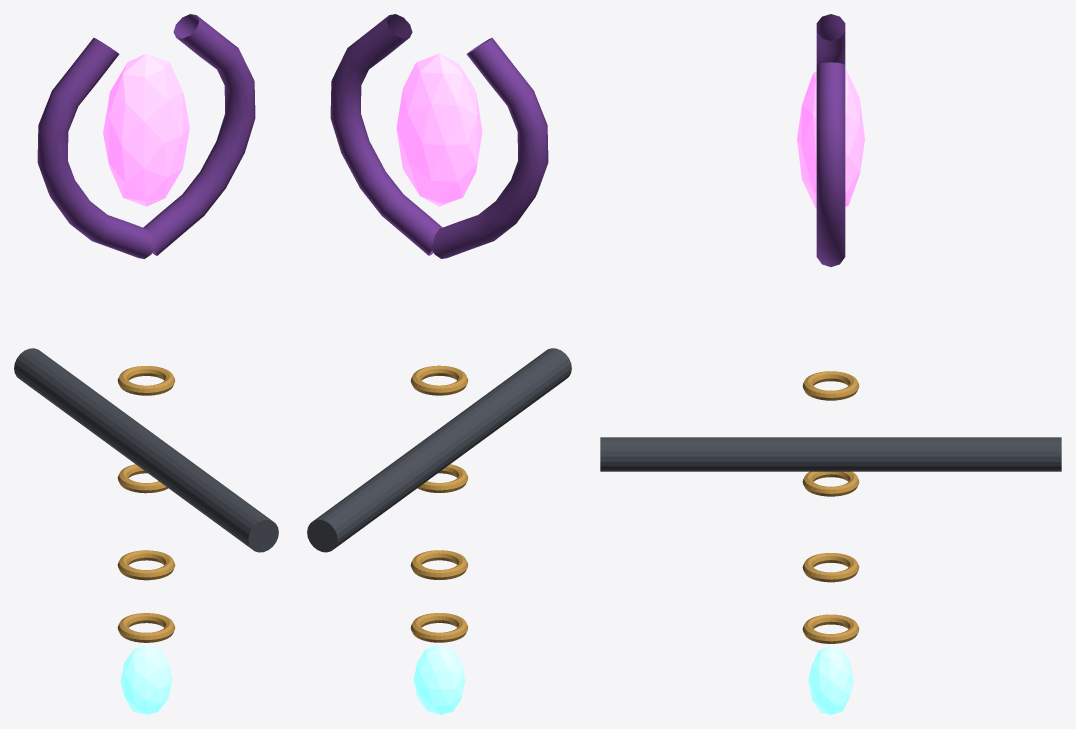
The model's file is weapon_eclipse_scepter.glb.
3 views of the same model, side by side, from view 1: azimuth 30°, elevation 25°; view 2: azimuth 150°, elevation 25°; view 3: azimuth 270°, elevation 25° (orthographic).
Parts seen in each view (by area): view 1: ScepterShaft, VoidHeart, CrescentR, CrescentL, CounterGem, ArcaneRing, ArcaneRing.001, ArcaneRing.003, ArcaneRing.002; view 2: ScepterShaft, VoidHeart, CrescentR, CrescentL, CounterGem, ArcaneRing.003, ArcaneRing.001, ArcaneRing, ArcaneRing.002; view 3: ScepterShaft, CrescentR, VoidHeart, CounterGem, CrescentL, ArcaneRing.003, ArcaneRing, ArcaneRing.001, ArcaneRing.002.
Boxes of the visible parts, x1,y1,x2,y2 form: ScepterShaft: [14, 348, 278, 552]; VoidHeart: [103, 53, 189, 206]; CrescentR: [143, 14, 255, 255]; CrescentL: [37, 37, 155, 258]; CounterGem: [120, 645, 172, 714]; ArcaneRing: [117, 613, 175, 642]; ArcaneRing.001: [117, 550, 175, 580]; ArcaneRing.003: [117, 366, 175, 395]; ArcaneRing.002: [117, 464, 168, 493]; ScepterShaft: [307, 348, 571, 552]; VoidHeart: [396, 53, 482, 206]; CrescentR: [330, 14, 442, 255]; CrescentL: [430, 37, 548, 258]; CounterGem: [413, 645, 465, 714]; ArcaneRing.003: [410, 365, 468, 395]; ArcaneRing.001: [410, 550, 468, 579]; ArcaneRing: [410, 613, 468, 642]; ArcaneRing.002: [417, 464, 468, 492]; ScepterShaft: [600, 437, 1061, 471]; CrescentR: [816, 62, 845, 266]; VoidHeart: [797, 69, 864, 208]; CounterGem: [808, 646, 853, 714]; CrescentL: [816, 14, 845, 64]; ArcaneRing.003: [802, 371, 859, 400]; ArcaneRing: [802, 614, 859, 643]; ArcaneRing.001: [802, 553, 859, 582]; ArcaneRing.002: [802, 471, 859, 496].
Size of the model in its own units: 0.643 by 1.97 by 1.22.
